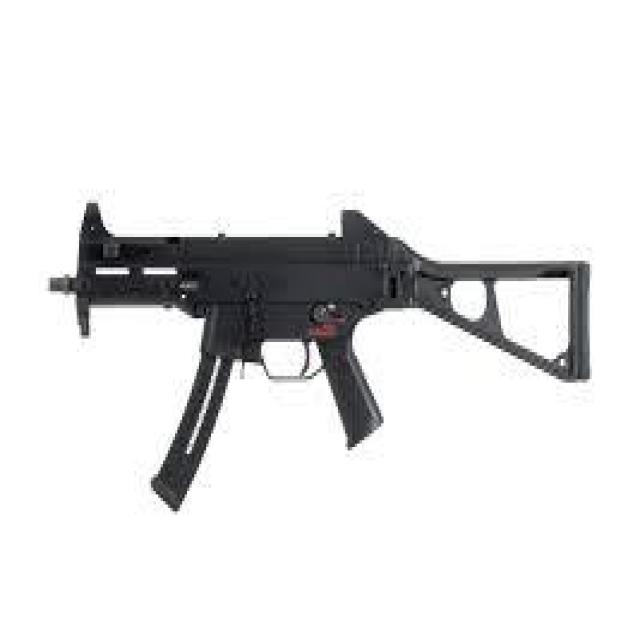Gun: (43, 166, 610, 526)
